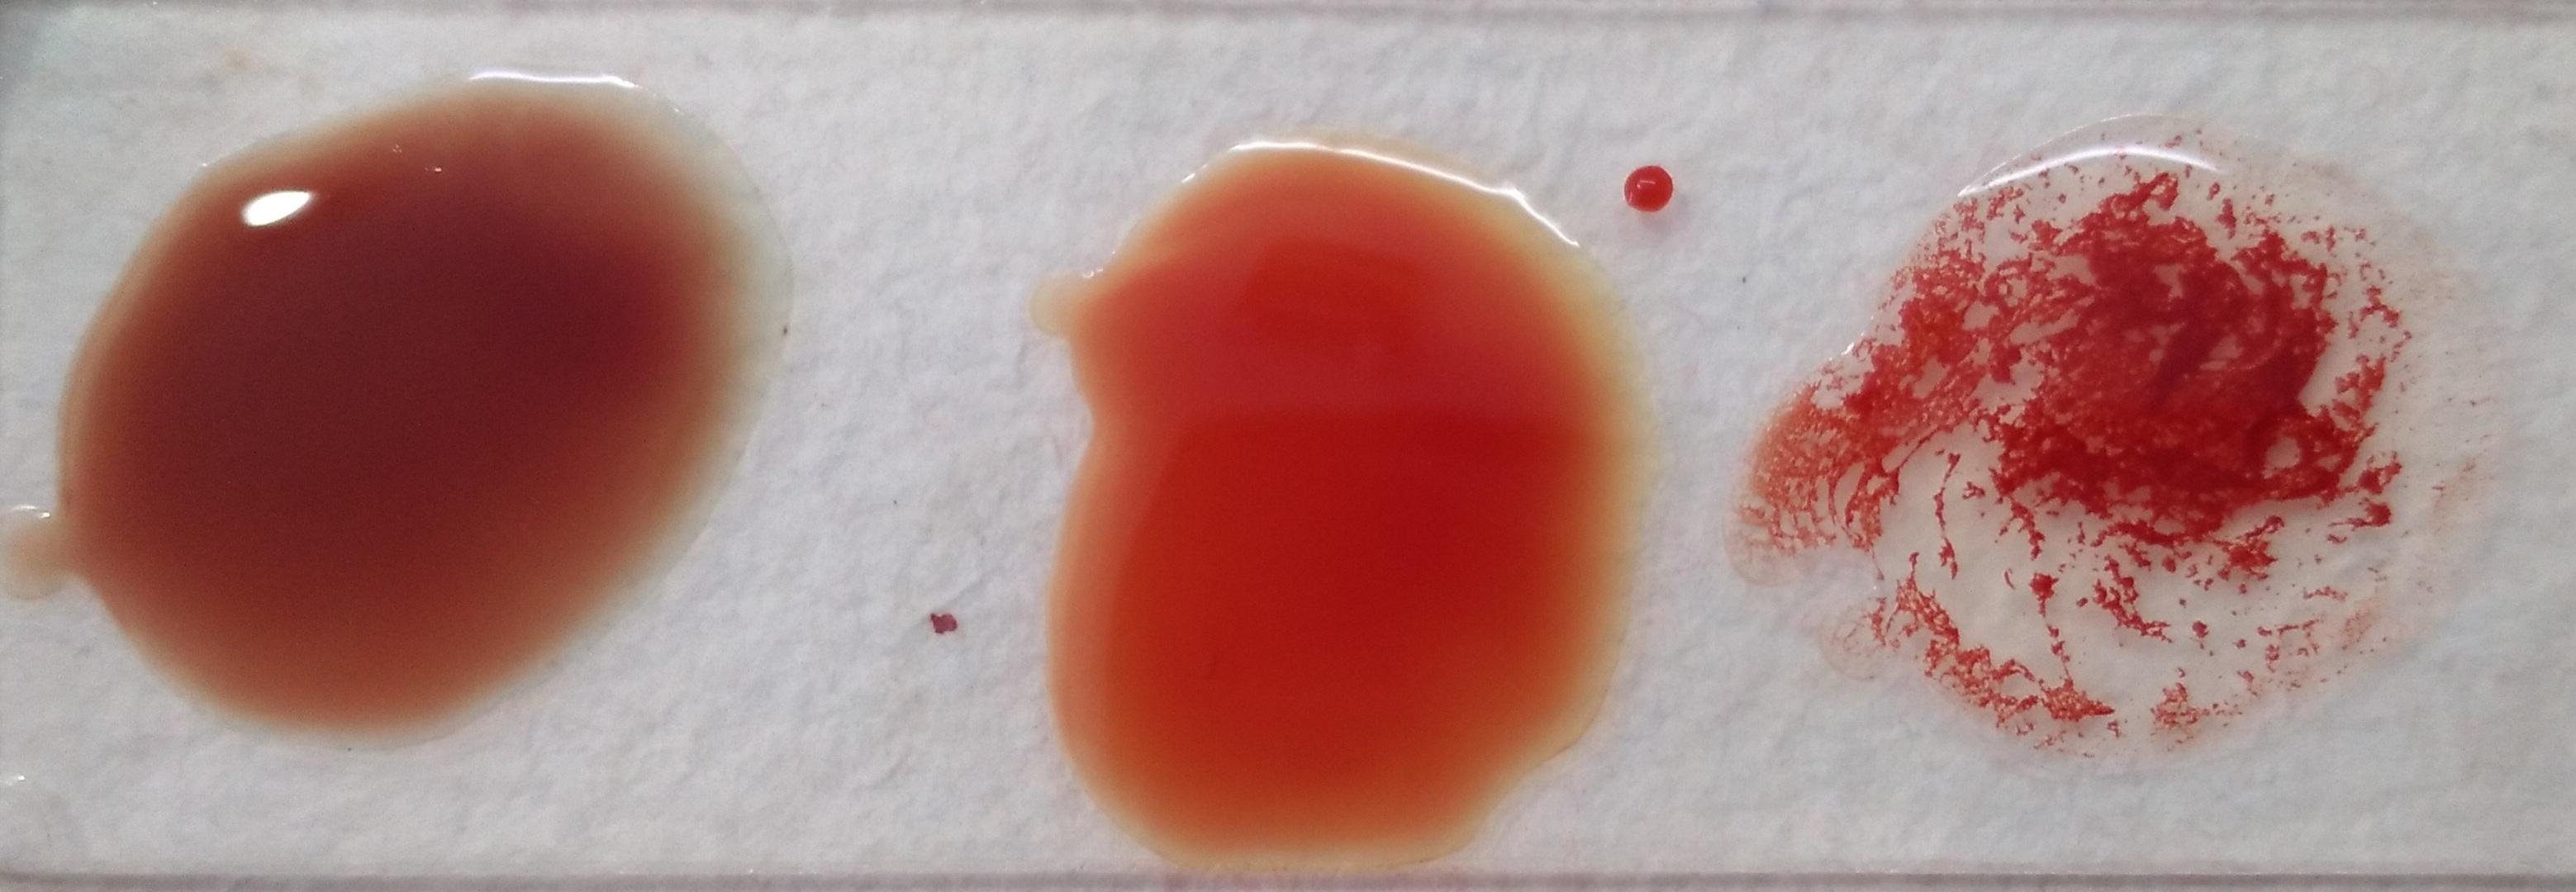D: (1840, 143, 2445, 734)
